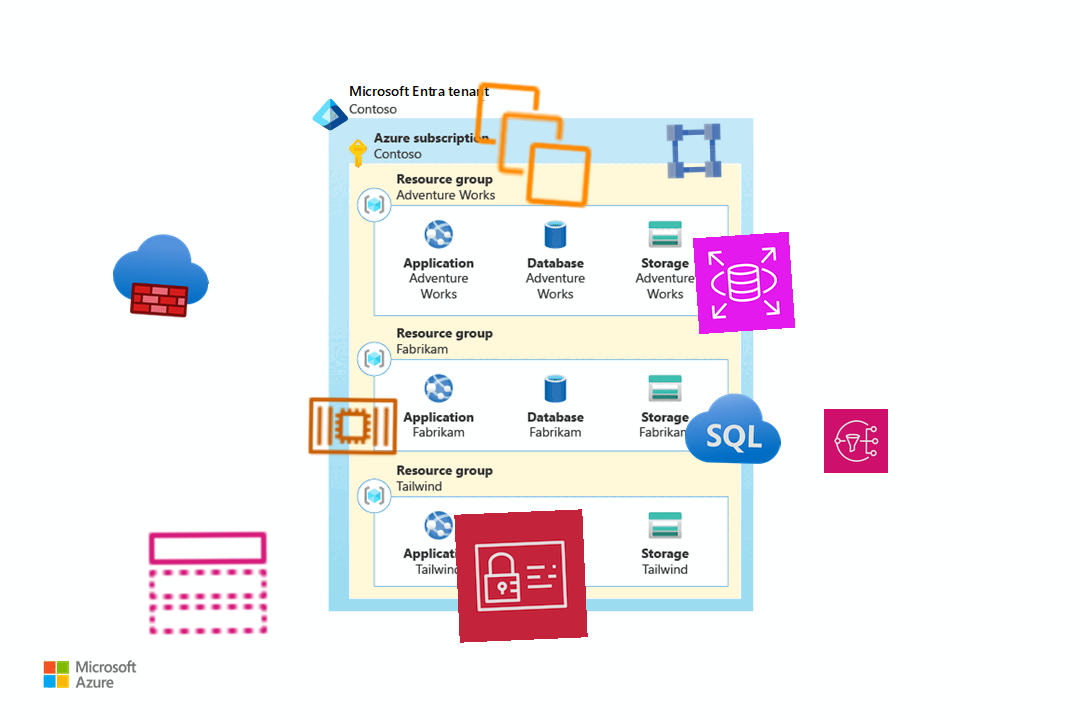aws_amazon_rds: (692, 231, 796, 335)
aws_amazon_simple_notification_service: (823, 408, 889, 474)
aws_ec2_instances: (464, 76, 602, 214)
aws_elastic_container_service_container_2: (304, 377, 402, 475)
aws_identity_and_access_management: (454, 509, 588, 643)
aws_simple_notification_service_topic: (143, 518, 273, 648)
azure_firewalls: (109, 223, 213, 327)
azure_sql: (683, 380, 783, 480)
gcp_virtual_private_cloud: (661, 118, 727, 184)
